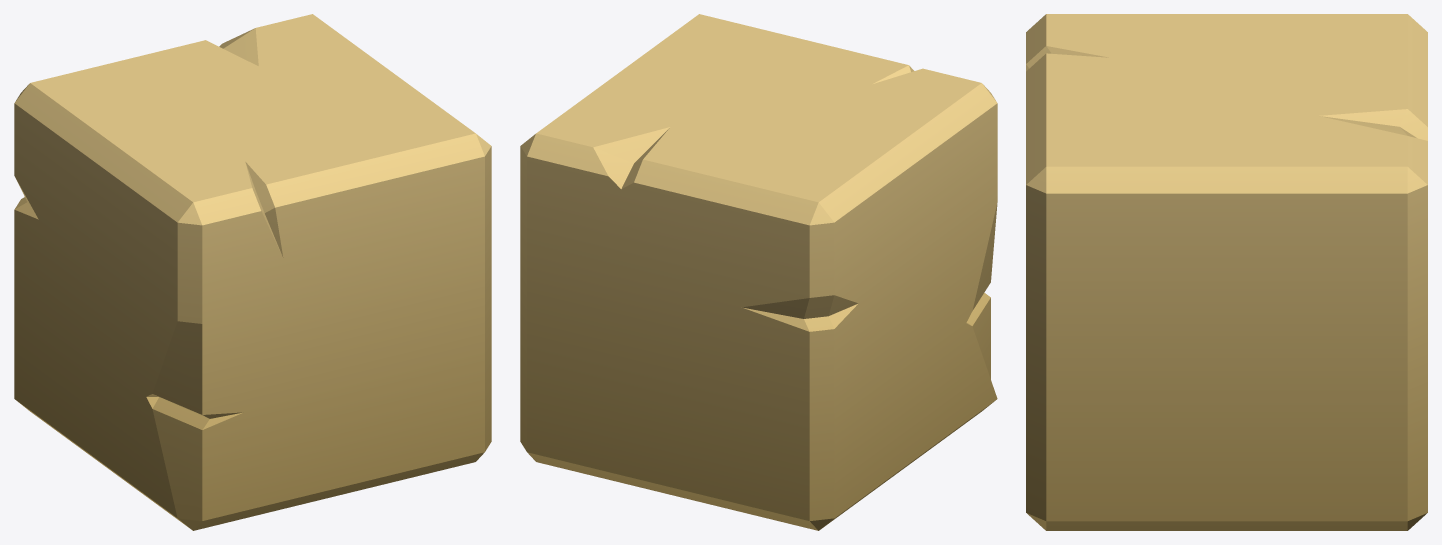
File: Tile_PutihCoak.fbx
The picture shows the model from 3 angles, left to right: view 1: azimuth 30°, elevation 25°; view 2: azimuth 150°, elevation 25°; view 3: azimuth 270°, elevation 25°; orthographic projection. The views are drawn at different scales.
Visible parts, largest first — view 1: Tile Putih Coak; view 2: Tile Putih Coak; view 3: Tile Putih Coak.
Boxes of the visible parts, x1,y1,x2,y2 form: Tile Putih Coak: (14, 14, 491, 530); Tile Putih Coak: (520, 14, 997, 530); Tile Putih Coak: (1026, 14, 1427, 530).
Bounding box in the file's own units: 1 × 1 × 1.
Materials: 1 (1 with a texture image).
